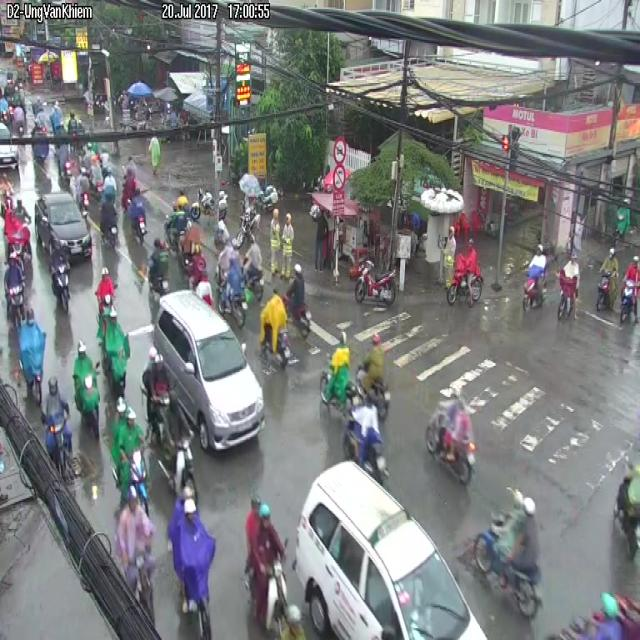car: (97, 305, 130, 396), (446, 240, 483, 307), (355, 259, 397, 305)
traffic-light: (293, 462, 488, 639), (152, 290, 263, 452), (36, 193, 90, 259)
